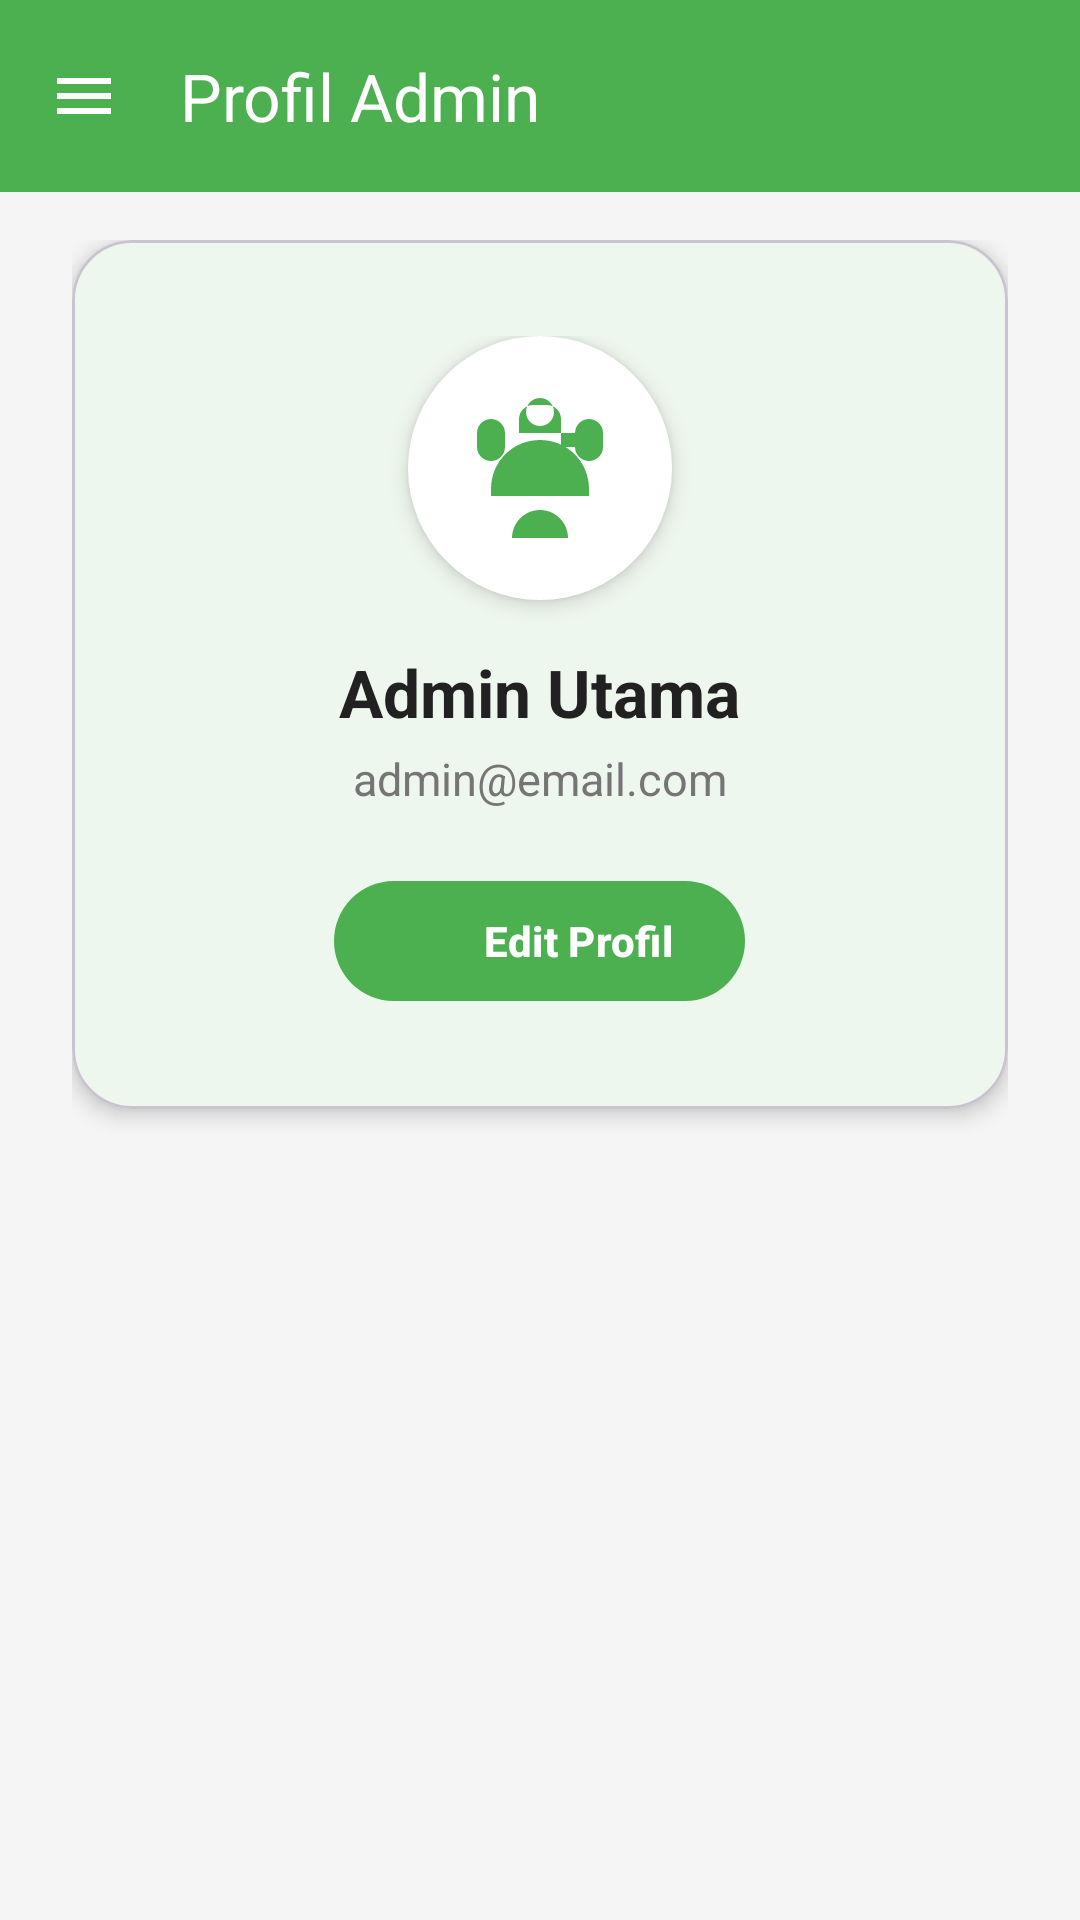

Screen size 1080*1920. Icon name, then its center in pixels as (x=x, y=y):
Avatar Admin: (x=540, y=468)
